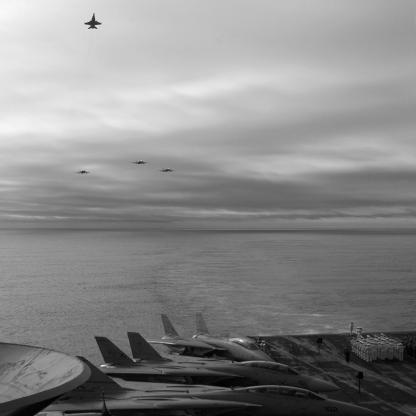F14: (34, 357, 386, 416), (95, 333, 346, 393), (145, 313, 275, 363)
F18: (85, 14, 103, 30), (158, 168, 177, 175), (131, 161, 151, 167), (74, 171, 94, 177)
